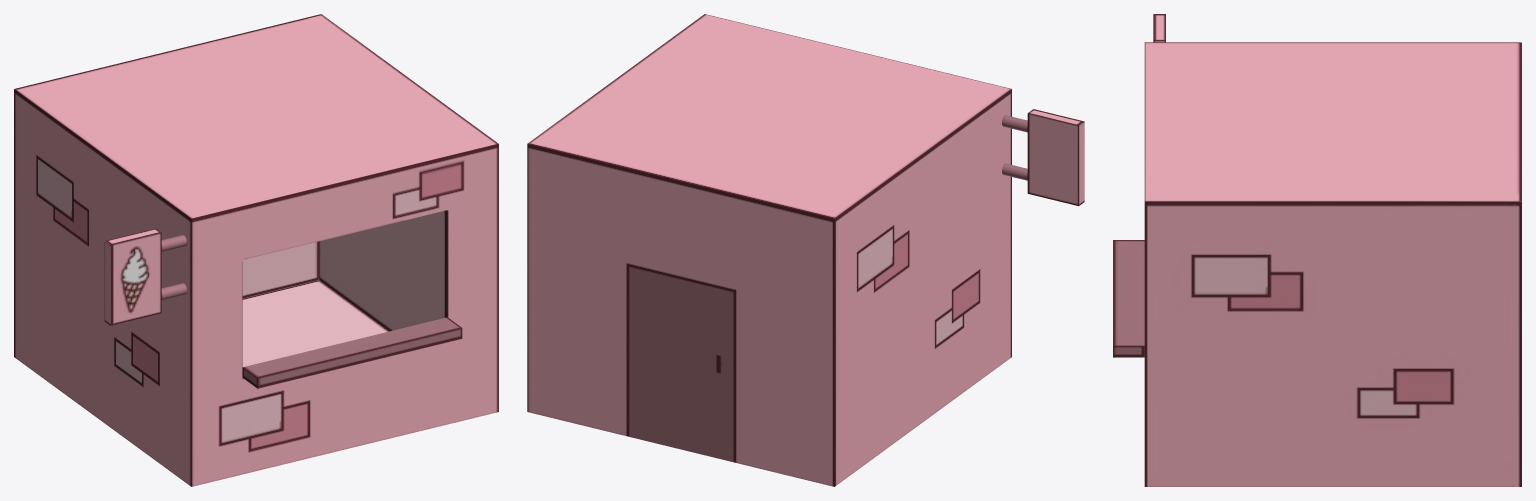
File: Building_icecream.fbx
3 views of the same model, side by side, from view 1: azimuth 30°, elevation 25°; view 2: azimuth 150°, elevation 25°; view 3: azimuth 270°, elevation 25° (orthographic). The views are drawn at different scales.
Visible parts, largest first — view 1: Box002; view 2: Box002; view 3: Box002.
Boxes of the visible parts, left/top/right/bottom form: Box002: left=14, top=14, right=498, bottom=486; Box002: left=527, top=14, right=1084, bottom=486; Box002: left=1113, top=14, right=1521, bottom=486.
Size of the model in its own units: 375 by 250 by 325.
Materials: 1 (1 with a texture image).
